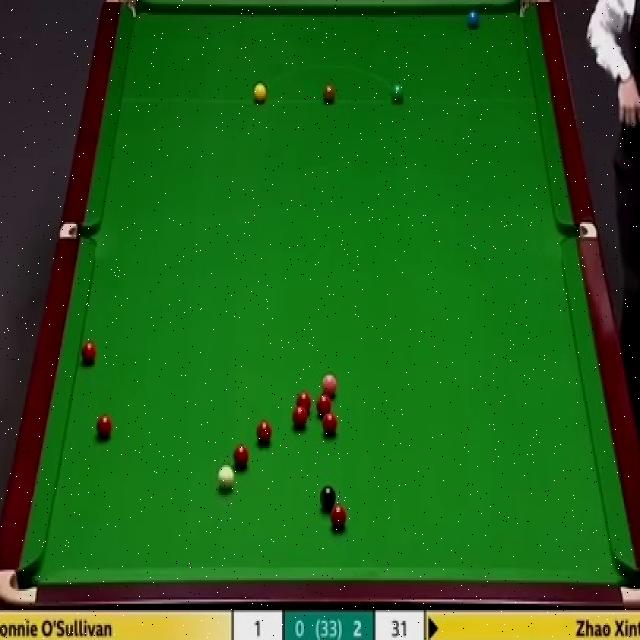black-ball: (320, 485, 334, 509)
blue-ball: (467, 9, 479, 32)
brown-ball: (323, 84, 337, 105)
green-ball: (390, 83, 405, 106)
pink-ball: (322, 373, 337, 401)
red-ball: (232, 443, 250, 471), (322, 411, 338, 440), (296, 391, 312, 418), (80, 341, 97, 366), (256, 419, 272, 445), (316, 392, 332, 418), (330, 504, 346, 529), (98, 414, 111, 439), (292, 406, 306, 428)
white-ball: (217, 464, 233, 491)
yellow-ball: (252, 83, 268, 104)
